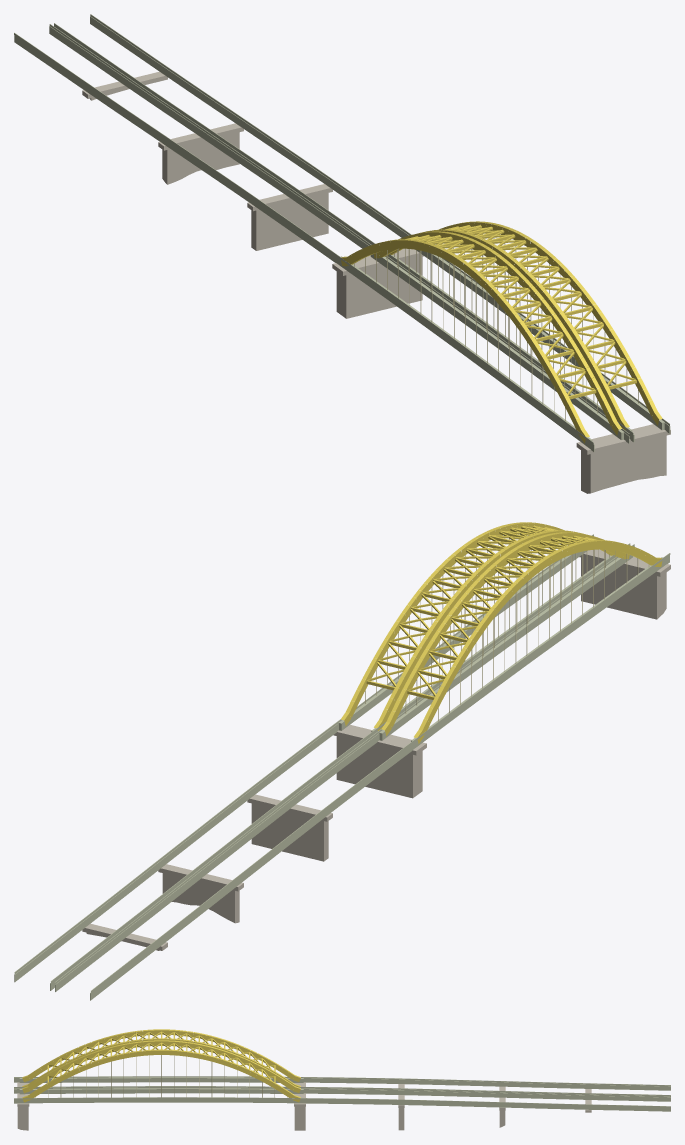
File: cin-big-mac-bridge.detail.glb
3 renders of one model, top to bottom at view 1: azimuth 30°, elevation 25°; view 2: azimuth 150°, elevation 25°; view 3: azimuth 270°, elevation 25°, orthographic. The views are drawn at different scales.
Visible parts, largest first — view 1: Daniel Carter Beard Bridge; view 2: Daniel Carter Beard Bridge; view 3: Daniel Carter Beard Bridge.
Boxes of the visible parts, x1,y1,x2,y2 form: Daniel Carter Beard Bridge: [14, 14, 670, 493]; Daniel Carter Beard Bridge: [14, 522, 670, 1000]; Daniel Carter Beard Bridge: [14, 1029, 670, 1130].
Size of the model in its own units: 44.5 by 72 by 534.
